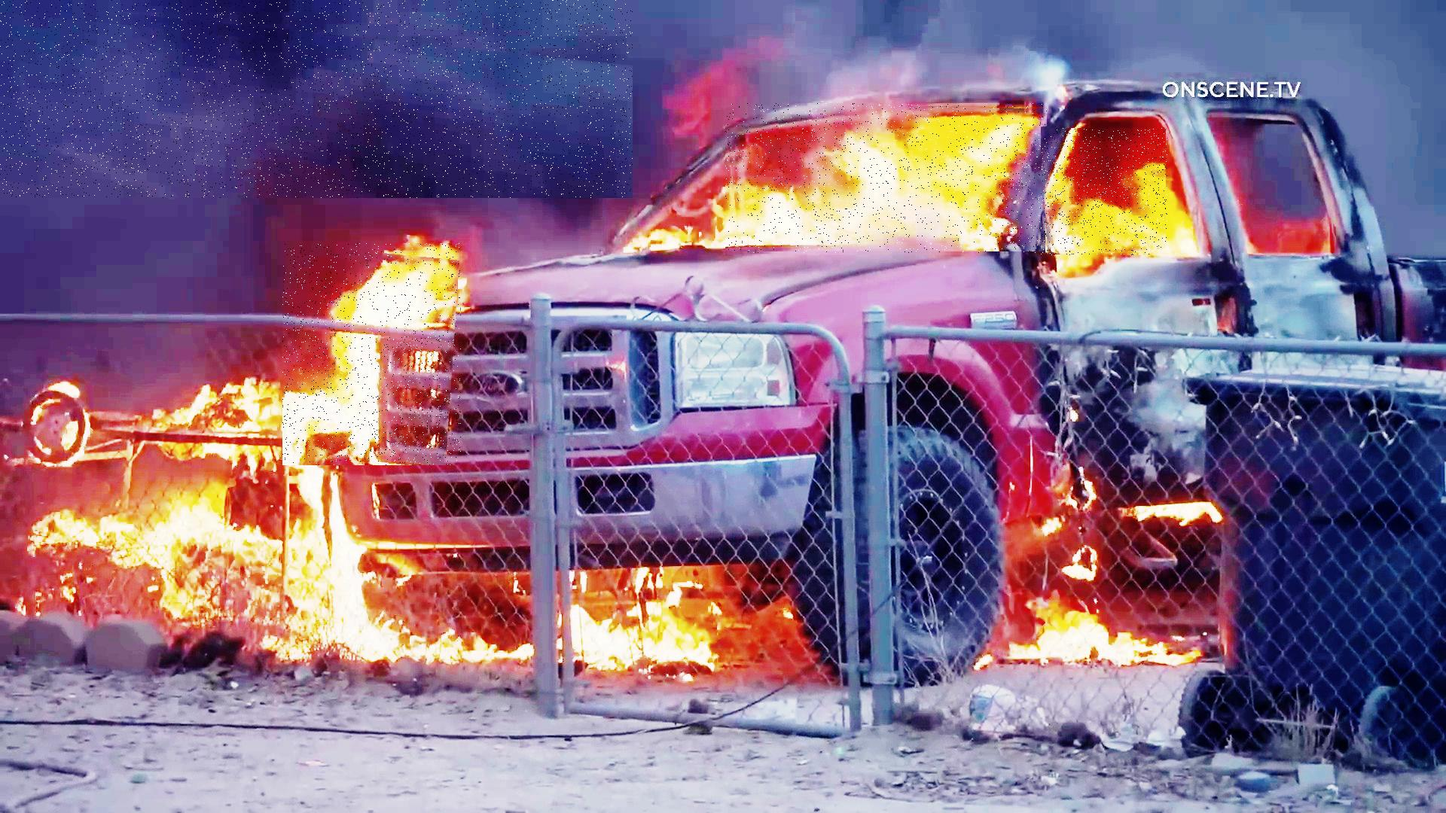fire: (0, 0, 633, 198), (725, 104, 1047, 254), (283, 243, 462, 465), (1041, 128, 1168, 255)
